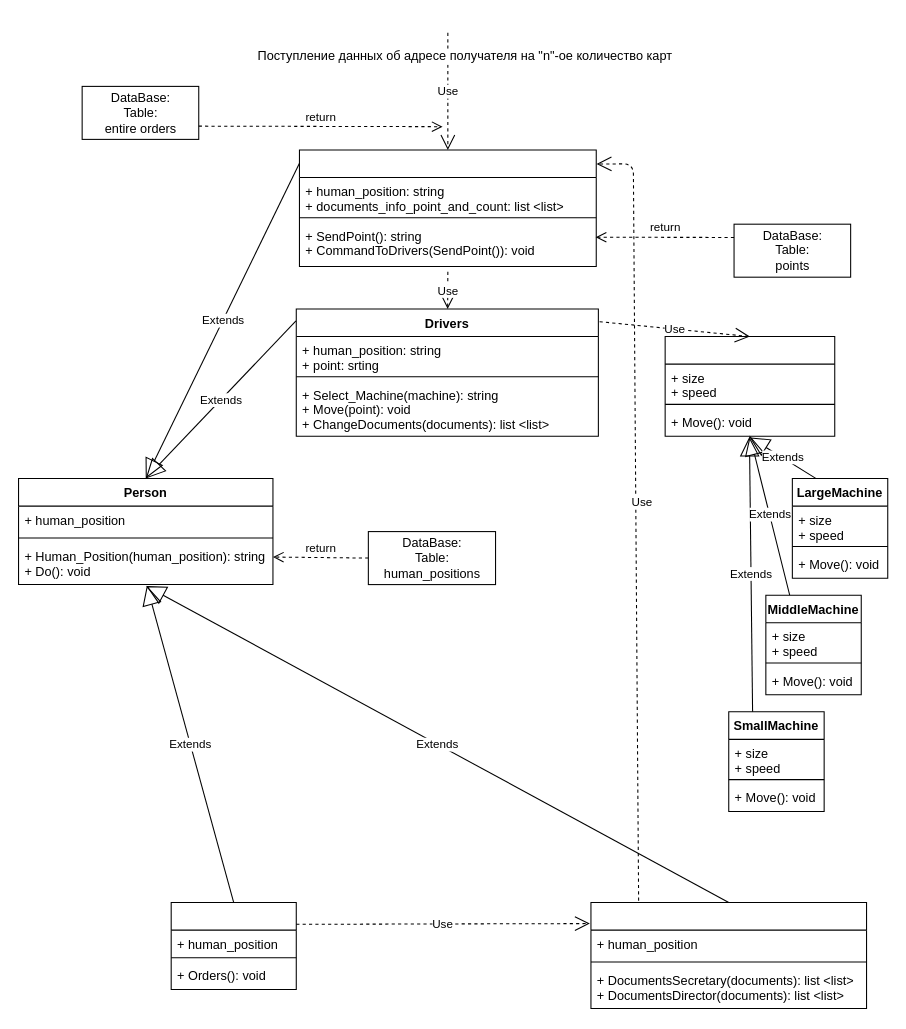
The diagram is 906 pixels wide and 1029 high, and some of its shapes have lost their labels. Each missing label, with the box of its shape:
ChangeGeneralDirector: (590, 902, 867, 1009)
GeneralDirector: (170, 902, 296, 990)
Machine: (664, 335, 835, 436)
Secretary: (298, 149, 596, 267)
